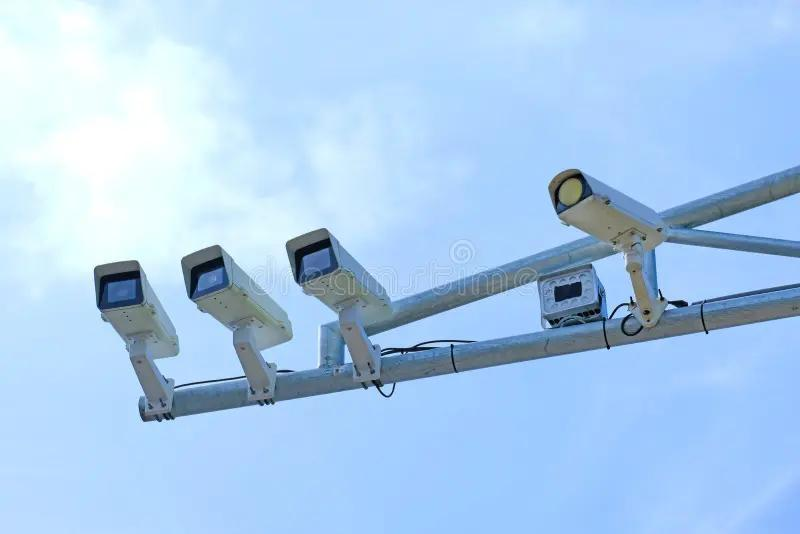Monitor: (529, 163, 692, 270), (175, 241, 302, 358), (277, 220, 397, 321), (86, 251, 193, 363)
